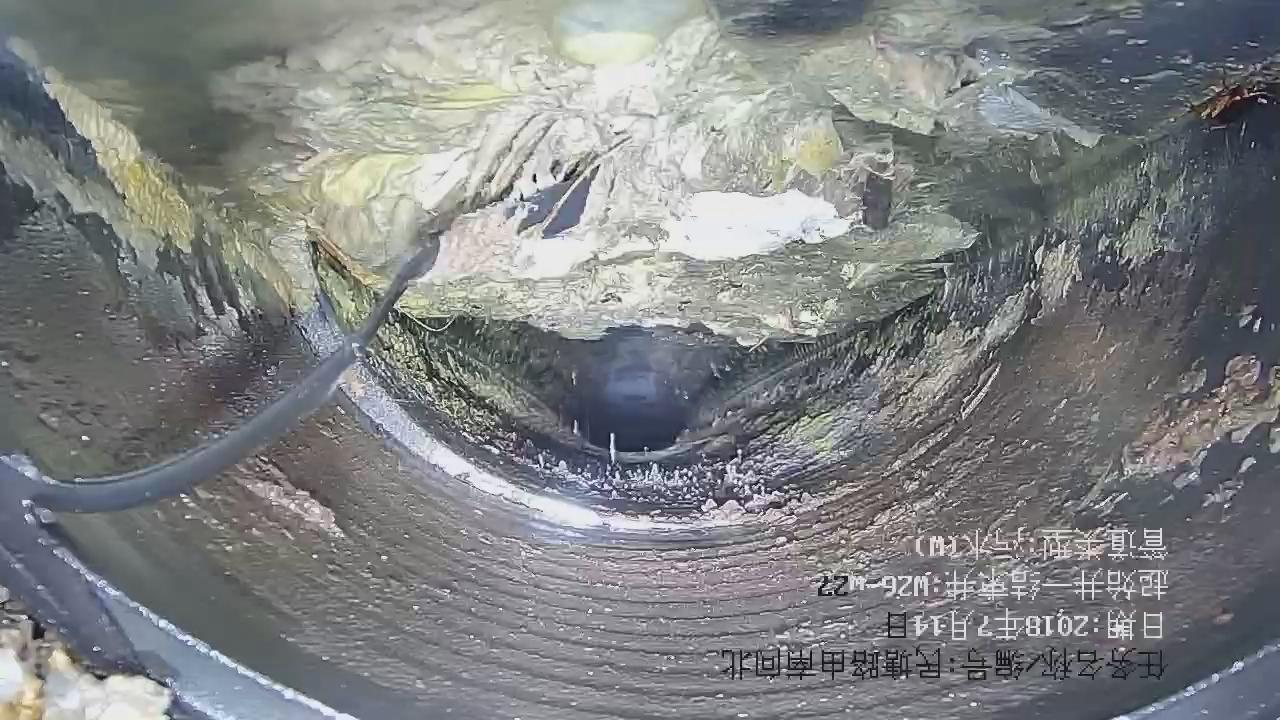CJ: (1, 1, 1135, 343)
CKTJ: (338, 366, 792, 531), (271, 229, 347, 357)
JG: (342, 138, 1280, 660), (303, 243, 378, 350)
JKCL: (1, 235, 440, 720)
